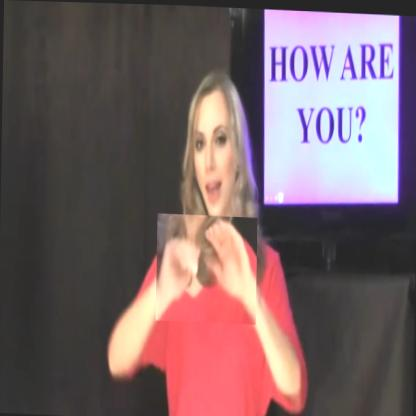HowAreYou: (156, 212, 258, 322)
